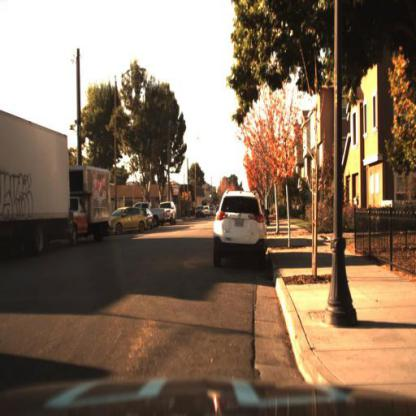car: (210, 189, 268, 267), (107, 203, 147, 235), (109, 203, 145, 237), (161, 198, 179, 228), (151, 204, 167, 230)
truck: (0, 98, 75, 265), (1, 105, 71, 257), (46, 163, 112, 251), (65, 151, 115, 245)
